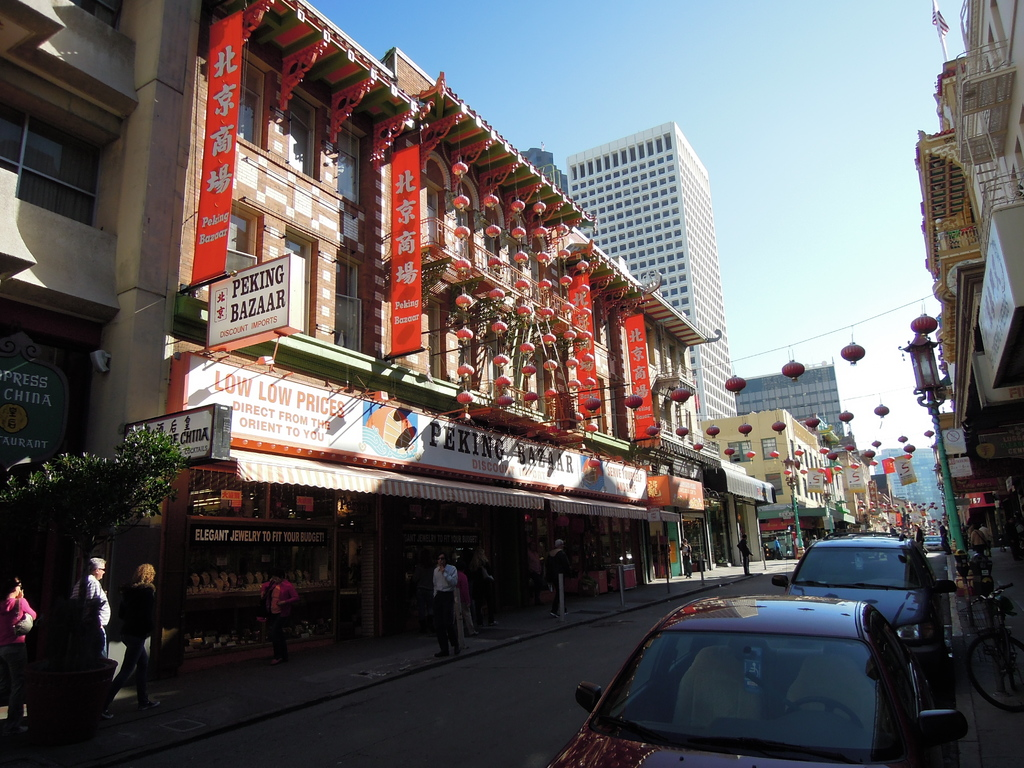mobil: (562, 593, 933, 768), (781, 529, 964, 671)
